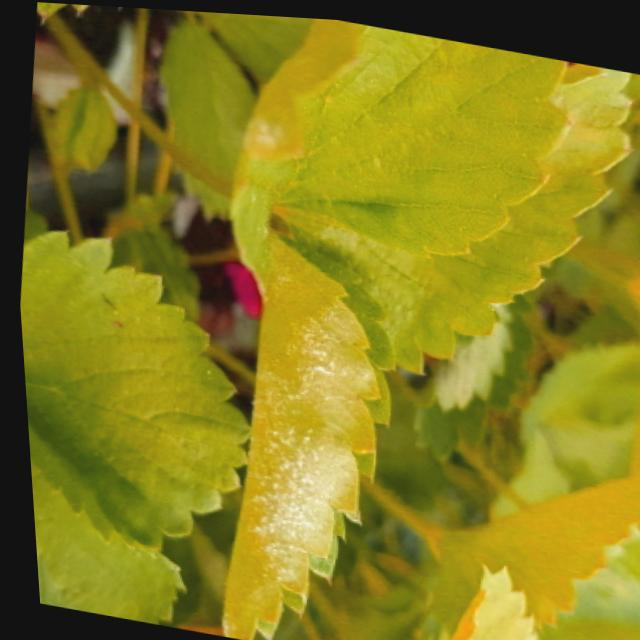Powdery Mildew Leaf: (212, 219, 393, 640)
